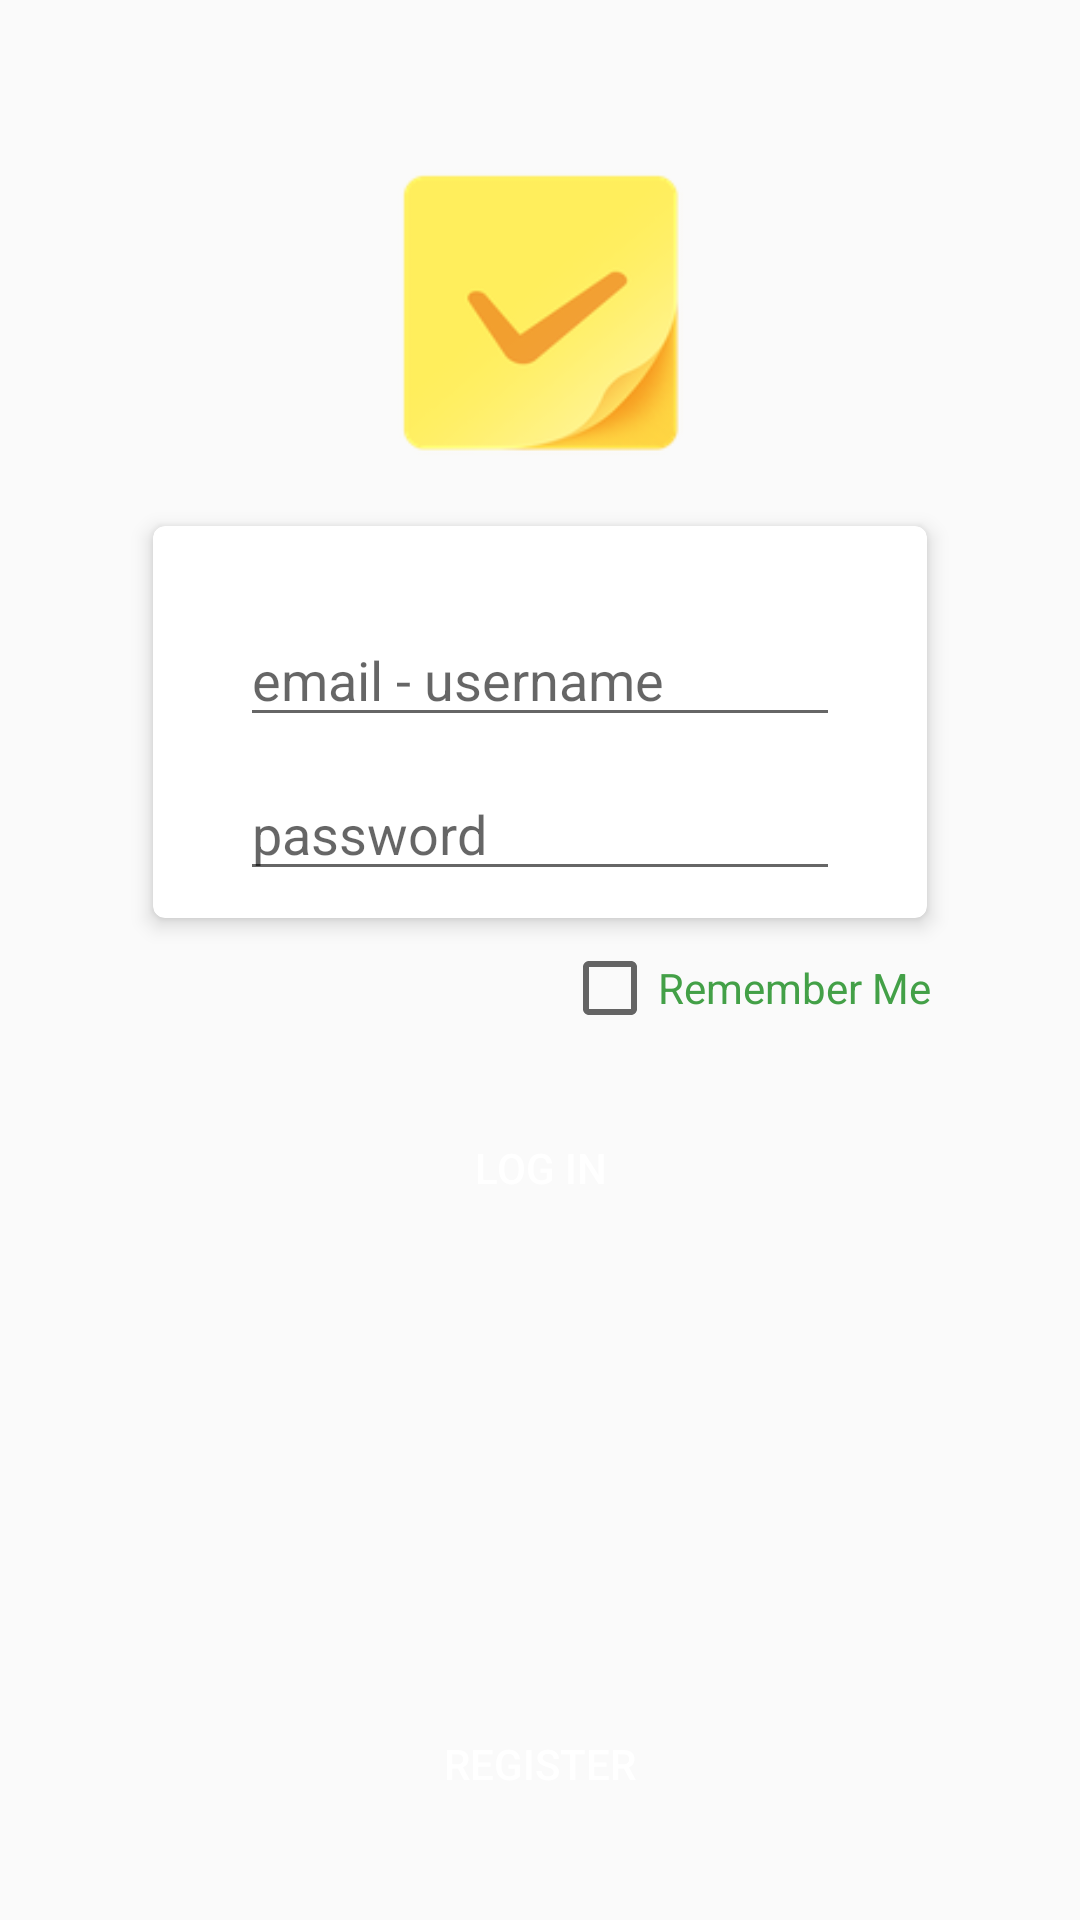

Icons on this 1080×1920 Android screen, each with the point to tap as point (x, y):
notes: point (541, 313)
